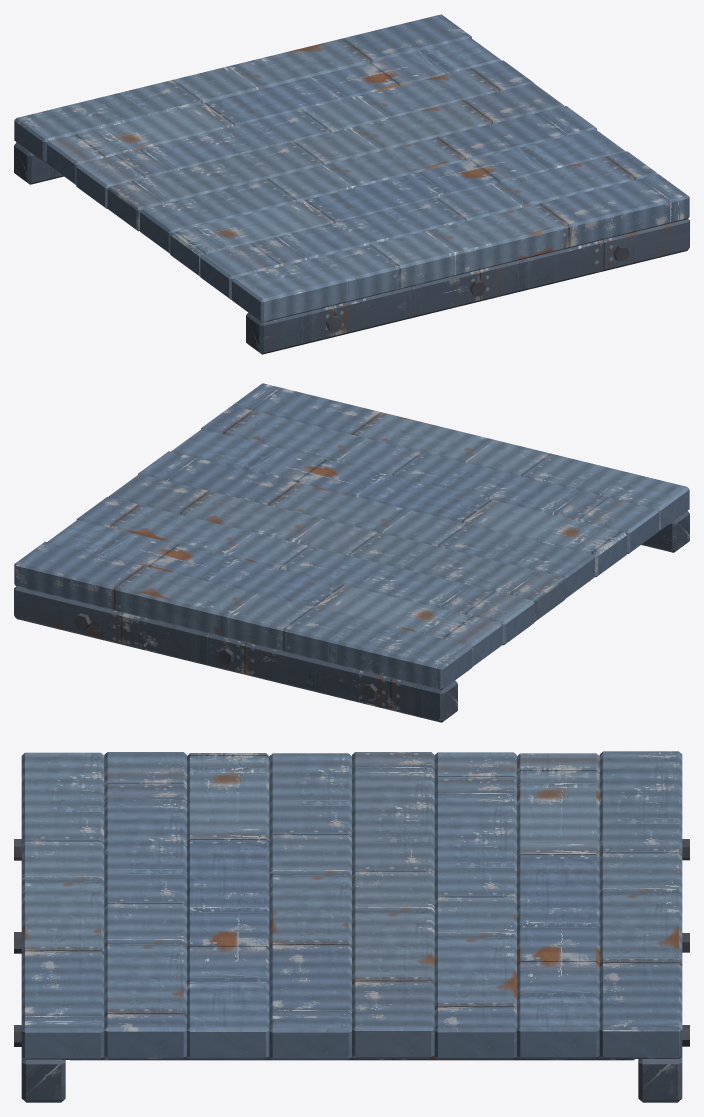
Rendered from kare_zemin.glb.
3 renders of one model, top to bottom at view 1: azimuth 30°, elevation 25°; view 2: azimuth 150°, elevation 25°; view 3: azimuth 270°, elevation 25°, orthographic. The views are drawn at different scales.
Parts seen in each view (by area): view 1: kare_zemin; view 2: kare_zemin; view 3: kare_zemin.
Part boxes in pixels (x1,y1,x2,y2): kare_zemin: (14, 14, 689, 354); kare_zemin: (14, 383, 689, 722); kare_zemin: (14, 751, 689, 1102).
Size of the model in its own units: 3 by 0.3783 by 3.07.
1 material, 1 textured.
